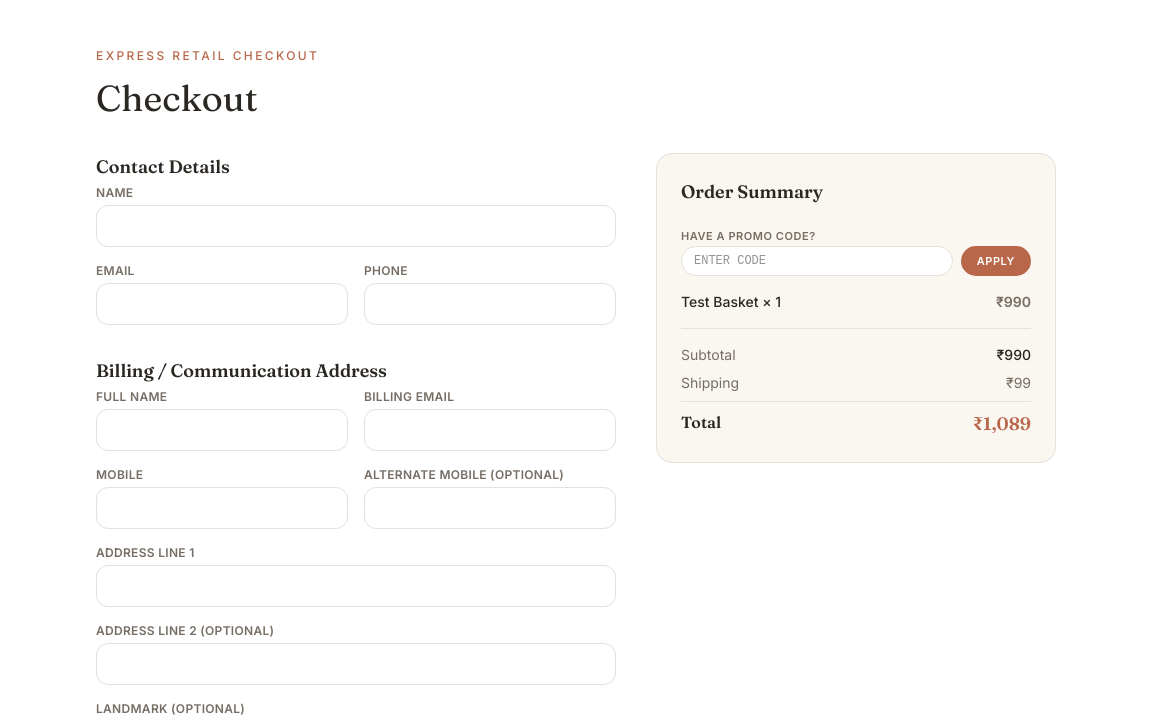
Test: CheckoutPage › applies a coupon from the order summary and re-fetches server totals with the code
Expected: the text "₹1,089" is shown, [973,410,1031,438]
Type "SAVE10" into the field named "Coupon code" at (817, 261), box [681,246,953,276]
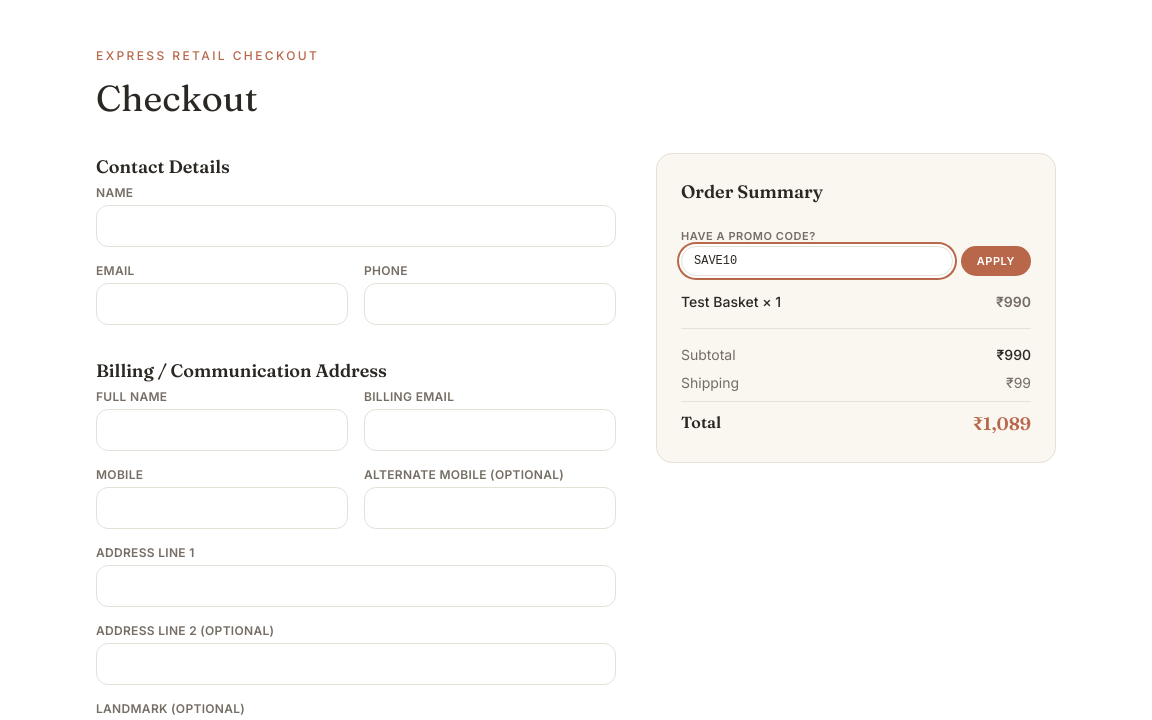
Click the button "Apply" at (996, 261), box [961,246,1031,276]
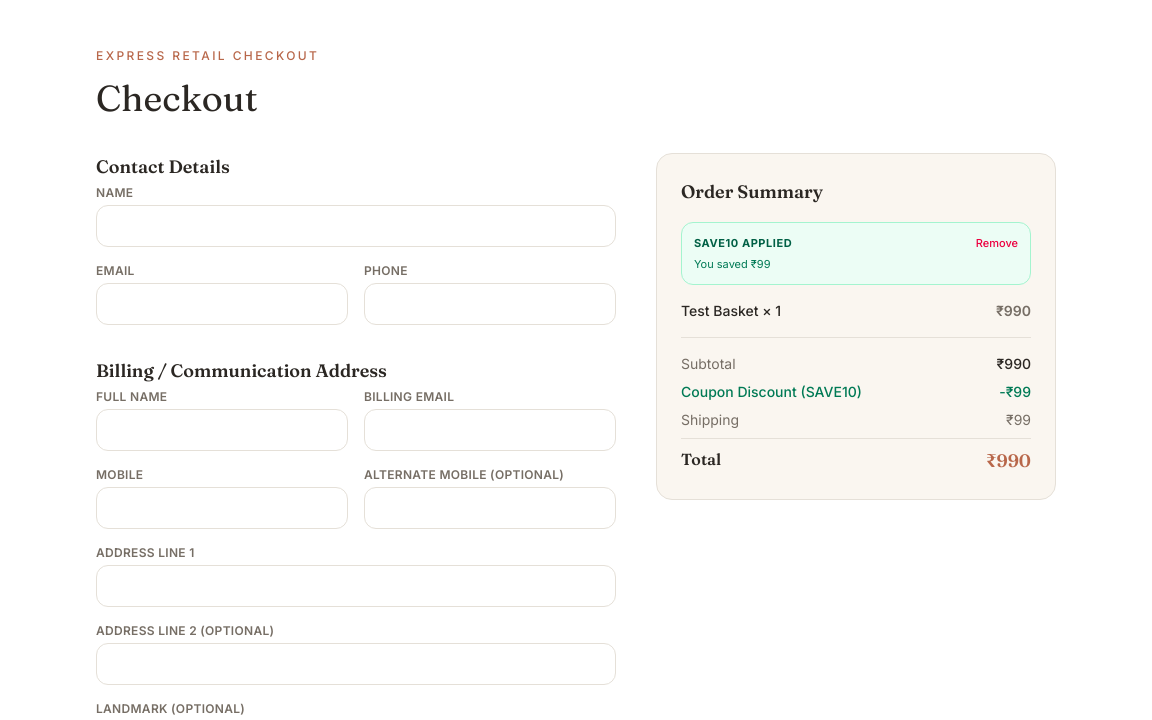
Expected: the text "₹990" in the row of "Test Basket" is shown, [996,302,1031,319]
Expected: the text "SAVE10 applied" is shown, [694,235,792,252]
Click the button "Remove" at (997, 243), box [976,235,1018,252]
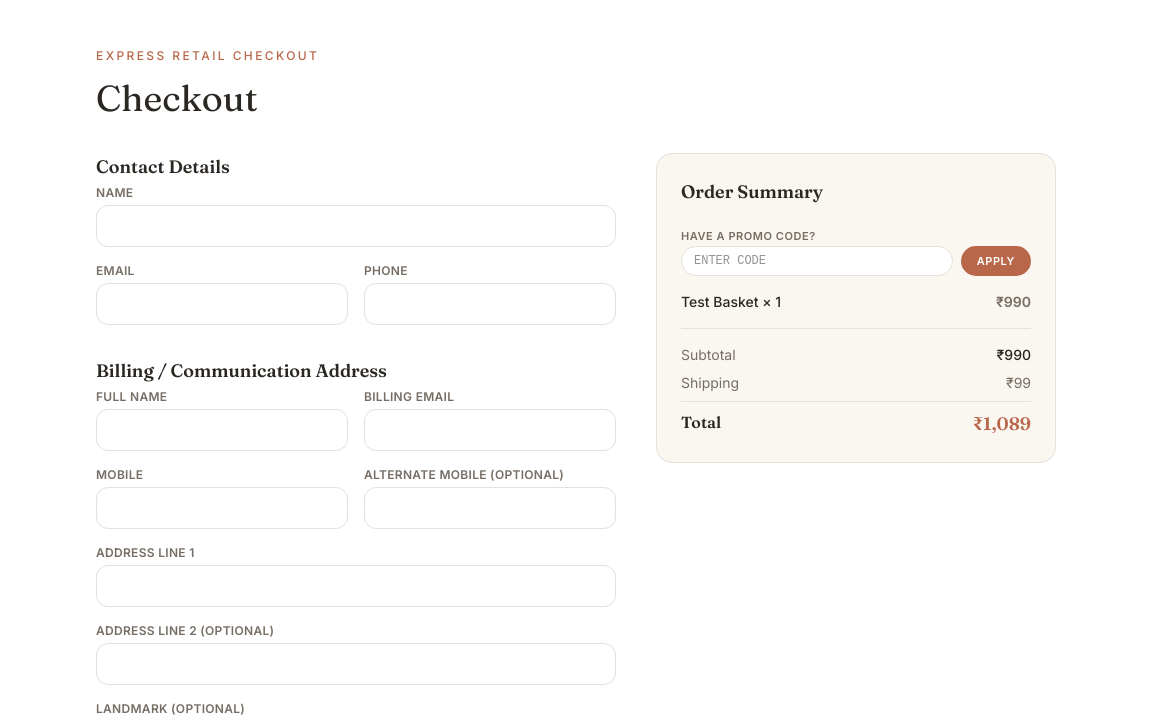
Expected: the text "SAVE10 applied" is gone
